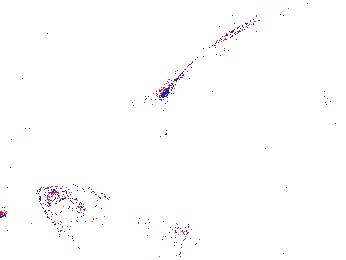X-ray fish: (36, 184, 133, 258), (128, 219, 203, 260)
glassfish: (122, 1, 317, 130), (316, 92, 346, 139)
siberian prawn: (200, 139, 328, 200), (200, 198, 315, 249)
